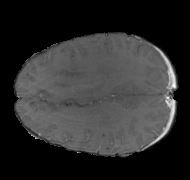Edema: (18, 39, 114, 118)
Necrosis: (30, 46, 102, 106)
